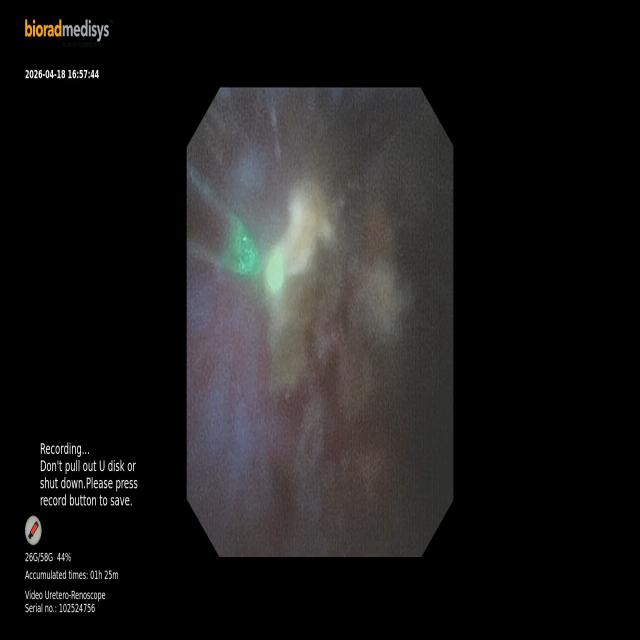laser-fibre: (187, 172, 260, 277)
laser_dot: (265, 249, 284, 292)
stone-new: (265, 182, 407, 415)
